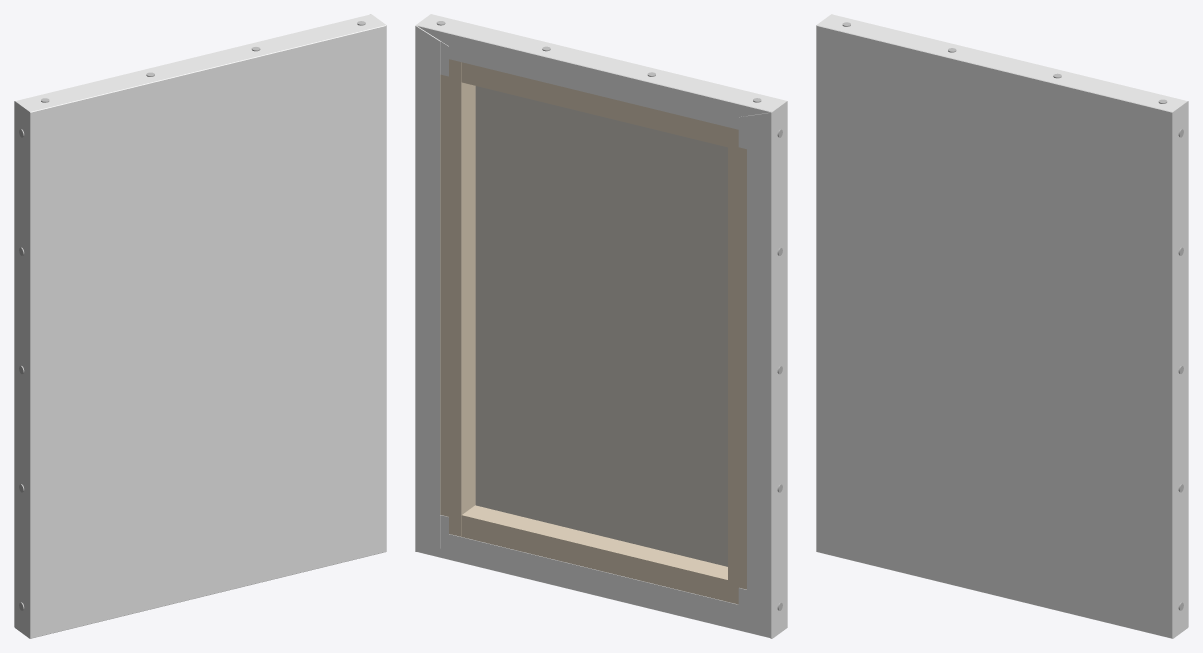
File: 1002_canvas.fbx
The picture shows the model from 3 angles, left to right: view 1: azimuth 30°, elevation 25°; view 2: azimuth 150°, elevation 25°; view 3: azimuth 330°, elevation 25°; orthographic projection.
Parts seen in each view (by area): view 1: canvas; view 2: canvas, waku; view 3: canvas.
Part boxes in pixels (x1,y1,x2,y2): canvas: (14,14,386,638); canvas: (415,14,787,638); waku: (440,59,746,604); canvas: (816,14,1188,638).
Size of the model in its own units: 73.7 by 104 by 5.7.
